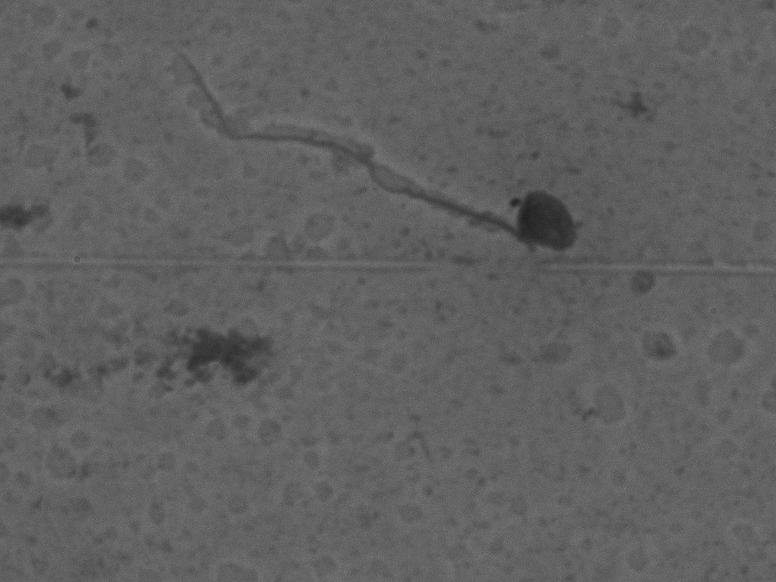Abnormal: (144, 45, 603, 269)
